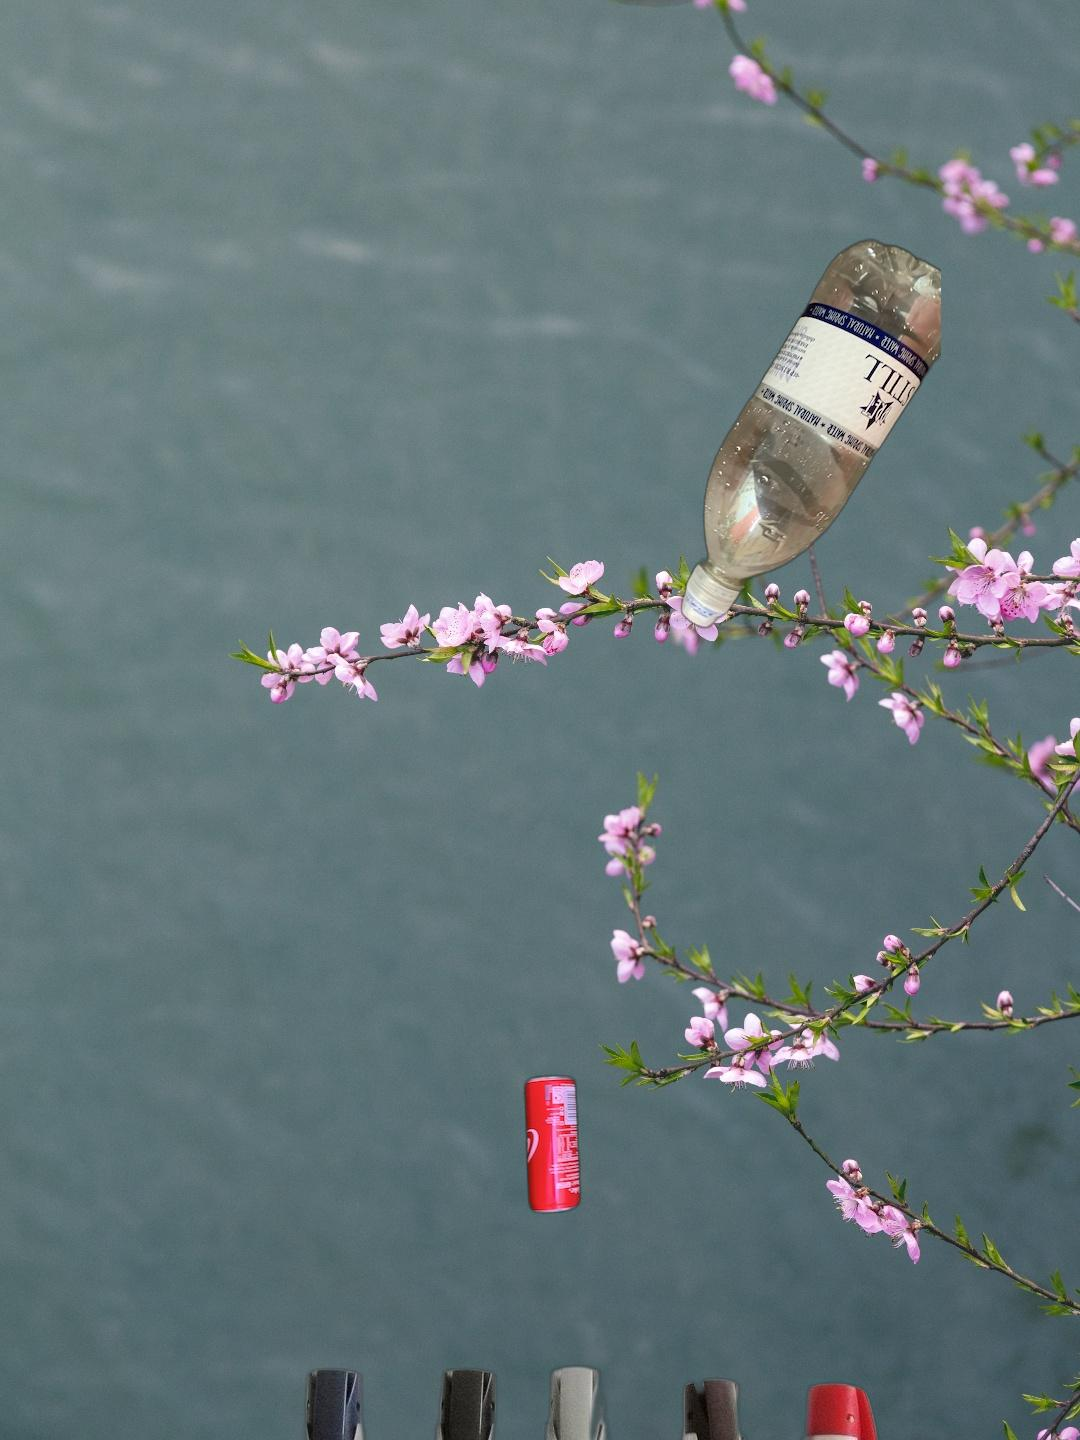metal-cans: (520, 1069, 585, 1219)
penholder: (295, 1361, 888, 1440)
plastic-bottles: (677, 234, 940, 634)
